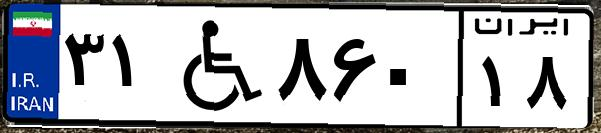0: (385, 28, 445, 110)
1: (475, 38, 525, 113), (110, 28, 158, 98)
3: (57, 26, 110, 100)
6: (330, 28, 385, 110)
8: (270, 28, 330, 110), (525, 38, 570, 115)
ژ (معلولین و جانبازان): (158, 12, 270, 120)
